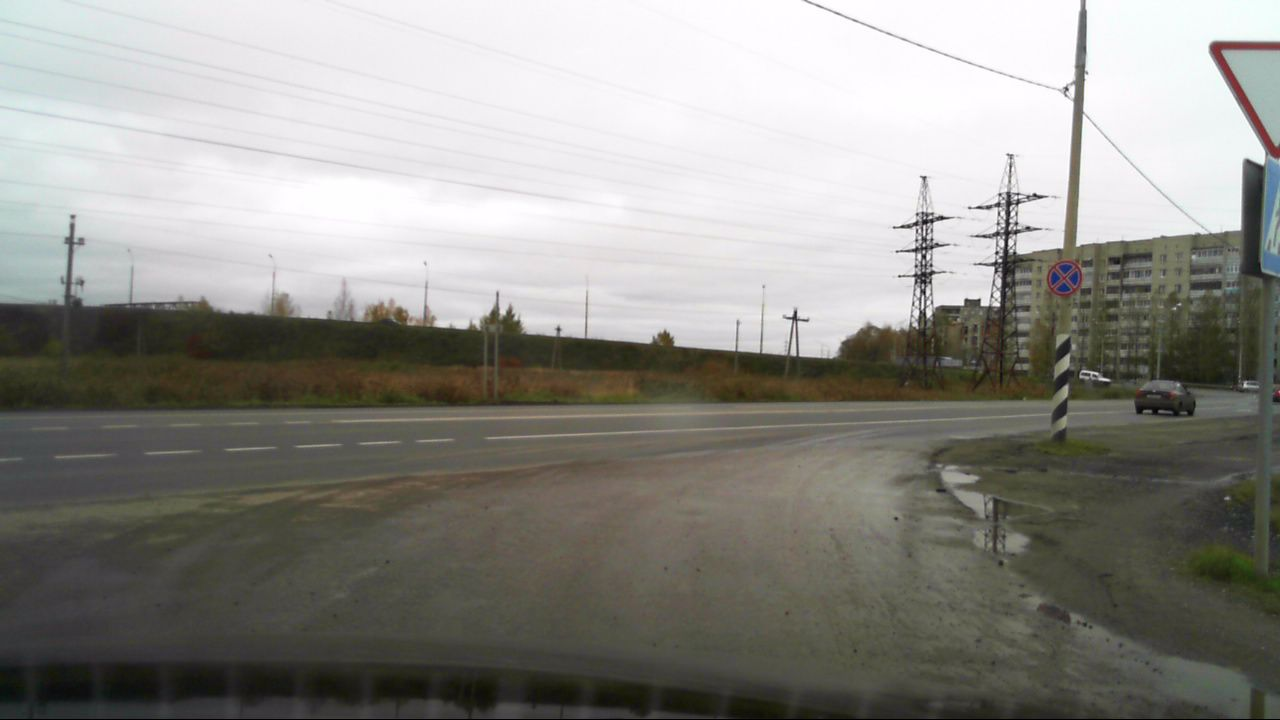No Parking: (1049, 259, 1083, 298)
